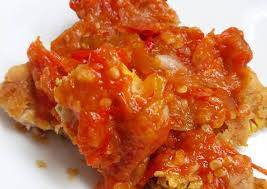ayam_geprek: (5, 3, 267, 186)
